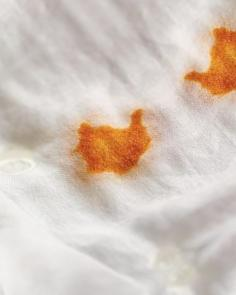stain: (67, 103, 155, 187), (178, 24, 235, 102)
